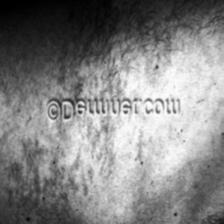Potentially Malignant Skin Tumors: (4, 119, 136, 219), (52, 17, 128, 93)
